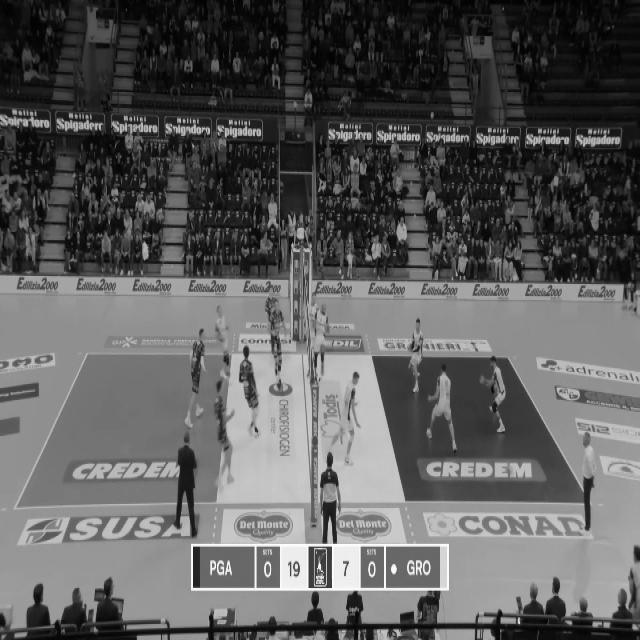volleyball court: (14, 353, 595, 505)
